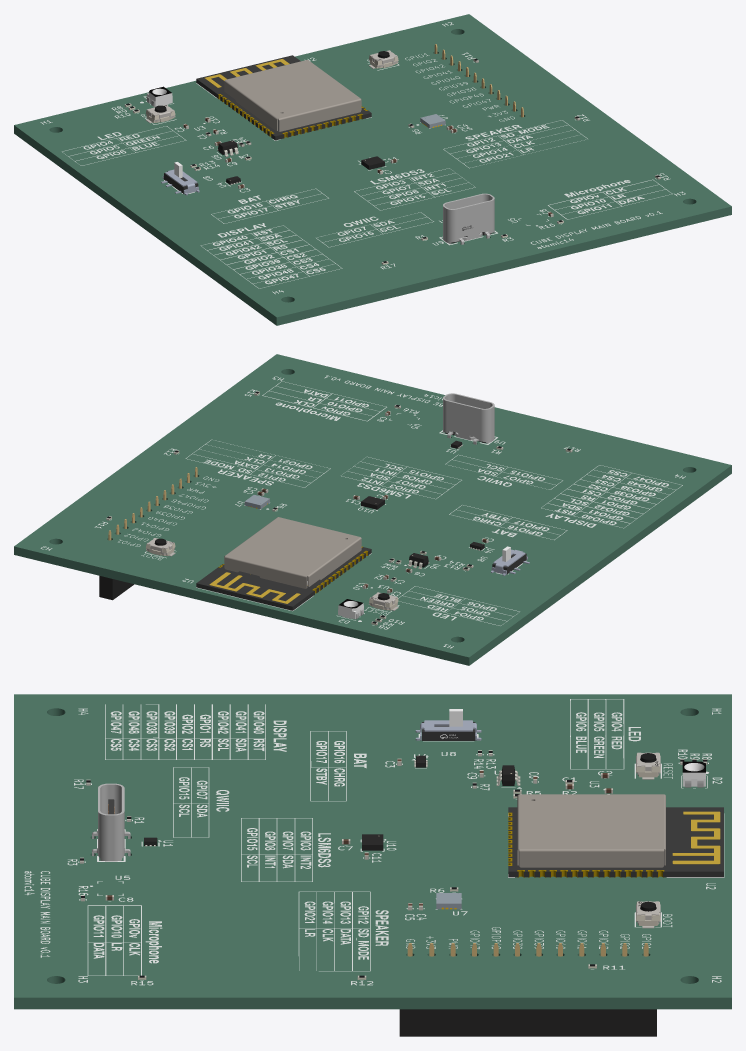
The model's file is pcb.glb.
3 renders of one model, top to bottom at view 1: azimuth 30°, elevation 25°; view 2: azimuth 150°, elevation 25°; view 3: azimuth 270°, elevation 25°, orthographic. The views are drawn at different scales.
Visible parts, largest first — view 1: main-board_PCB, ESP32-WROOM-32E_shielding_case_20210301, TYPE-C-SMD_USB4120-03-C001, uid__2428^DesignRootModel_PCB_ESP32-S3-WROOM-1_V1(2)_PCB_ESP, main-board_silkscreen162, main-board_silkscreen257; view 2: main-board_PCB, ESP32-WROOM-32E_shielding_case_20210301, uid__2428^DesignRootModel_PCB_ESP32-S3-WROOM-1_V1(2)_PCB_ESP, TYPE-C-SMD_USB4120-03-C001, main-board_silkscreen162, PinSocket_1x12_P2.54mm_Vertical, trace_1^Submodel-MINI-ANT-TYPEB_668419613_part_DesignRootMod, main-board_silkscreen257; view 3: main-board_PCB, ESP32-WROOM-32E_shielding_case_20210301, PinSocket_1x12_P2.54mm_Vertical, uid__2428^DesignRootModel_PCB_ESP32-S3-WROOM-1_V1(2)_PCB_ESP, TYPE-C-SMD_USB4120-03-C001, main-board_silkscreen162, trace_1^Submodel-MINI-ANT-TYPEB_668419613_part_DesignRootMod, SW-SMD_MSS12C02LS-HB2.0-1, main-board_silkscreen257, main-board_silkscreen304, SW-SMD_L3.9-W2.9-H2.0-LS4.010, SW-SMD_L3.9-W2.9-H2.0-LS4.027 (+3 smaller).
Part boxes in pixels (x1,y1,x2,y2): main-board_PCB: [14, 14, 731, 325]; ESP32-WROOM-32E_shielding_case_20210301: [224, 60, 361, 131]; TYPE-C-SMD_USB4120-03-C001: [443, 193, 494, 244]; uid__2428^DesignRootModel_PCB_ESP32-S3-WROOM-1_V1(2)_PCB_ESP: [196, 55, 371, 140]; main-board_silkscreen162: [200, 225, 342, 288]; main-board_silkscreen257: [354, 168, 475, 210]; main-board_PCB: [14, 354, 731, 665]; ESP32-WROOM-32E_shielding_case_20210301: [224, 517, 361, 588]; uid__2428^DesignRootModel_PCB_ESP32-S3-WROOM-1_V1(2)_PCB_ESP: [196, 547, 371, 610]; TYPE-C-SMD_USB4120-03-C001: [443, 393, 494, 444]; main-board_silkscreen162: [541, 465, 682, 528]; PinSocket_1x12_P2.54mm_Vertical: [99, 467, 197, 600]; trace_1^Submodel-MINI-ANT-TYPEB_668419613_part_DesignRootMod: [209, 572, 300, 603]; main-board_silkscreen257: [341, 456, 461, 499]; main-board_PCB: [14, 694, 731, 1009]; ESP32-WROOM-32E_shielding_case_20210301: [517, 794, 665, 867]; PinSocket_1x12_P2.54mm_Vertical: [399, 943, 656, 1036]; uid__2428^DesignRootModel_PCB_ESP32-S3-WROOM-1_V1(2)_PCB_ESP: [508, 807, 723, 877]; TYPE-C-SMD_USB4120-03-C001: [92, 783, 130, 861]; main-board_silkscreen162: [105, 704, 265, 759]; trace_1^Submodel-MINI-ANT-TYPEB_668419613_part_DesignRootMod: [672, 811, 720, 864]; SW-SMD_MSS12C02LS-HB2.0-1: [415, 709, 481, 740]; main-board_silkscreen257: [241, 818, 312, 881]; main-board_silkscreen304: [298, 891, 370, 971]; SW-SMD_L3.9-W2.9-H2.0-LS4.010: [636, 752, 660, 777]; SW-SMD_L3.9-W2.9-H2.0-LS4.027: [636, 901, 660, 925].
Bounding box in the file's own units: 0.085 × 0.0162 × 0.085.
